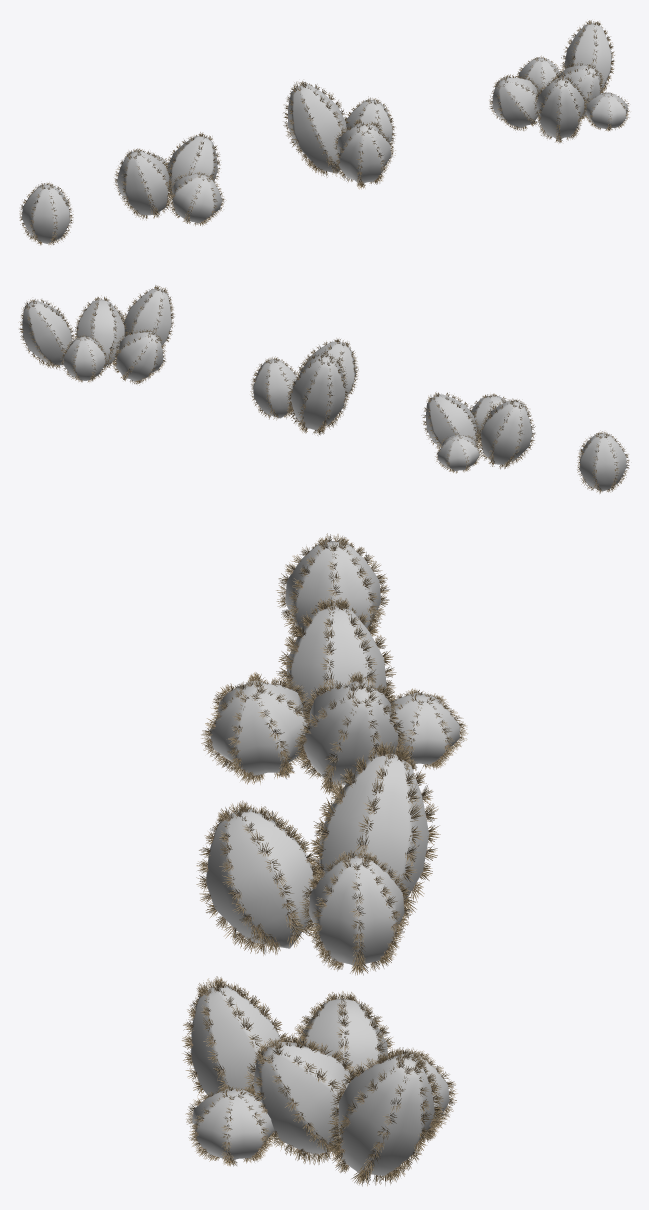
File: SmallCactos_Groups.FBX
3 renders of one model, top to bottom at view 1: azimuth 30°, elevation 25°; view 2: azimuth 150°, elevation 25°; view 3: azimuth 270°, elevation 25°, orthographic. The views are drawn at different scales.
Parts seen in each view (by area): view 1: Cacto_Group_A_LOD0, Cacto_Group_B_LOD0, Cacto_Group_C_LOD0, Cacto_Single_LOD0; view 2: Cacto_Group_A_LOD0, Cacto_Group_C_LOD0, Cacto_Group_B_LOD0, Cacto_Single_LOD0; view 3: Cacto_Group_A_LOD0, Cacto_Group_B_LOD0, Cacto_Group_C_LOD0, Cacto_Single_LOD0.
Boxes of the visible parts, x1=… form: Cacto_Group_A_LOD0: x1=489, y1=20, x2=629, y2=143; Cacto_Group_B_LOD0: x1=283, y1=81, x2=395, y2=189; Cacto_Group_C_LOD0: x1=114, y1=132, x2=226, y2=226; Cacto_Single_LOD0: x1=19, y1=182, x2=73, y2=245; Cacto_Group_A_LOD0: x1=18, y1=285, x2=174, y2=385; Cacto_Group_C_LOD0: x1=421, y1=392, x2=535, y2=473; Cacto_Group_B_LOD0: x1=250, y1=338, x2=358, y2=435; Cacto_Single_LOD0: x1=577, y1=430, x2=629, y2=493; Cacto_Group_A_LOD0: x1=181, y1=976, x2=457, y2=1186; Cacto_Group_B_LOD0: x1=196, y1=741, x2=440, y2=975; Cacto_Group_C_LOD0: x1=201, y1=597, x2=468, y2=795; Cacto_Single_LOD0: x1=276, y1=533, x2=389, y2=640.
Size of what is drawn, in the model's own units: 246 by 39.99 by 53.46.
